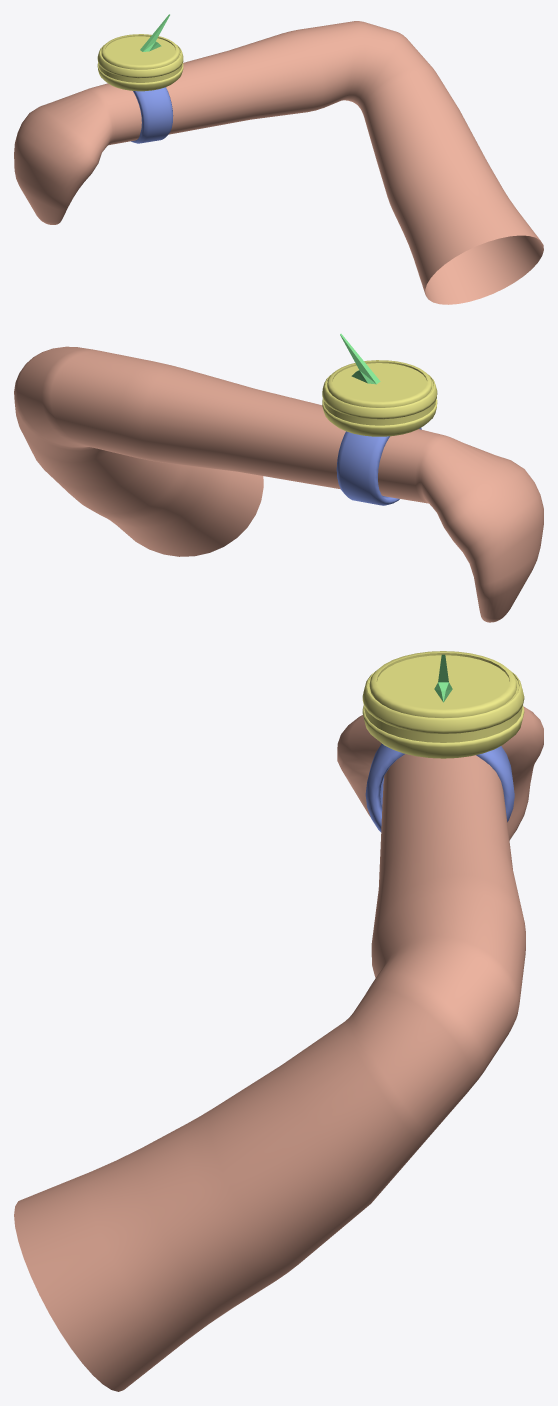
Rendered from SM_Sundial.fbx.
3 renders of one model, top to bottom at view 1: azimuth 30°, elevation 25°; view 2: azimuth 150°, elevation 25°; view 3: azimuth 270°, elevation 25°, orthographic. The views are drawn at different scales.
Visible parts, largest first — view 1: Arm; view 2: Arm; view 3: Arm.
Boxes of the visible parts, box(x1,y1,x2,y2) form: Arm: box(14, 14, 543, 304); Arm: box(14, 333, 543, 622); Arm: box(14, 651, 543, 1391).
Size of the model in its own units: 68.9 by 44.18 by 40.52.
